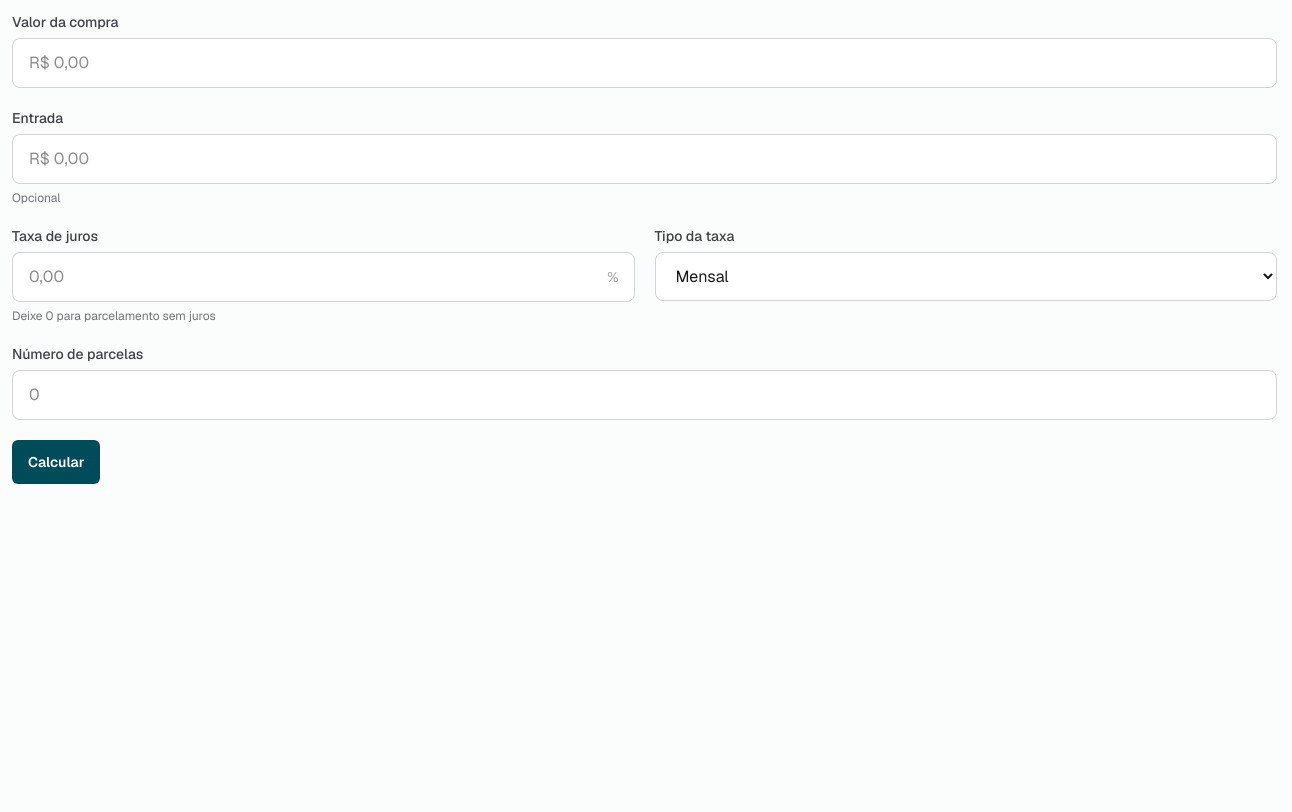
Test: ParcelamentoTool — validações › aceita taxa zero (parcelamento sem juros)
The image size is (1292, 812).
Step 1. Type "1000000" into the field labelled "Valor da compra" → (644,63), box left=12, top=38, right=1277, bottom=88
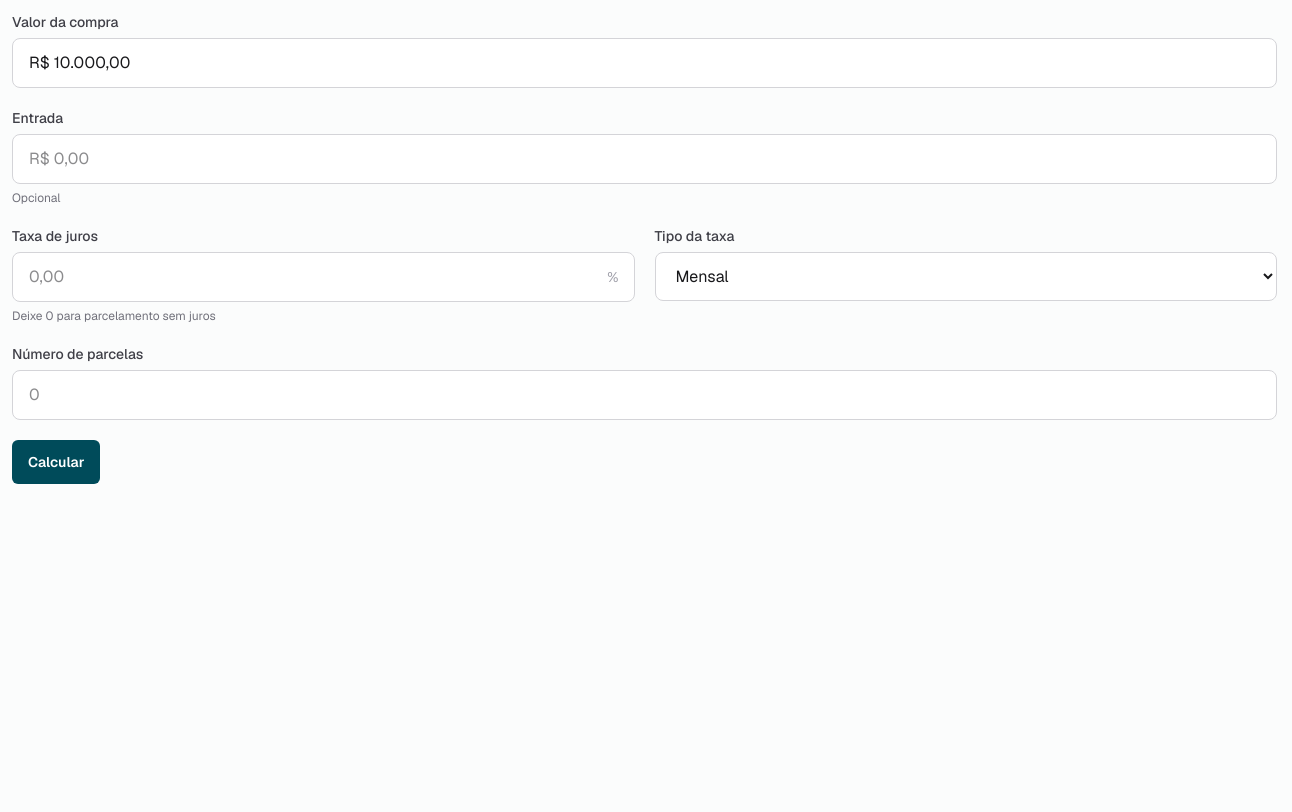
Step 2. Type "0" into the field labelled "Taxa de juros" → (323,277), box left=12, top=252, right=634, bottom=302
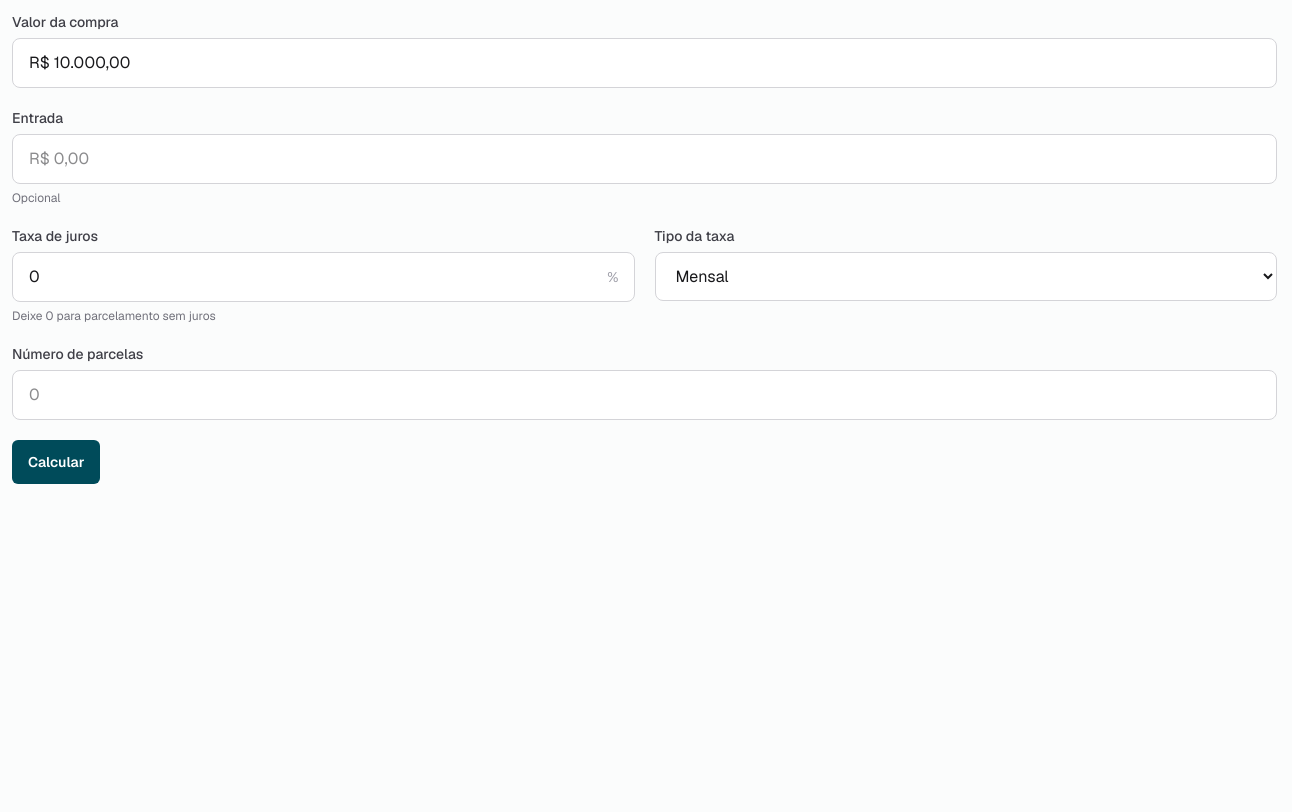
Step 3. Type "12" into the field labelled "Número de parcelas" → (644,395), box left=12, top=370, right=1277, bottom=420
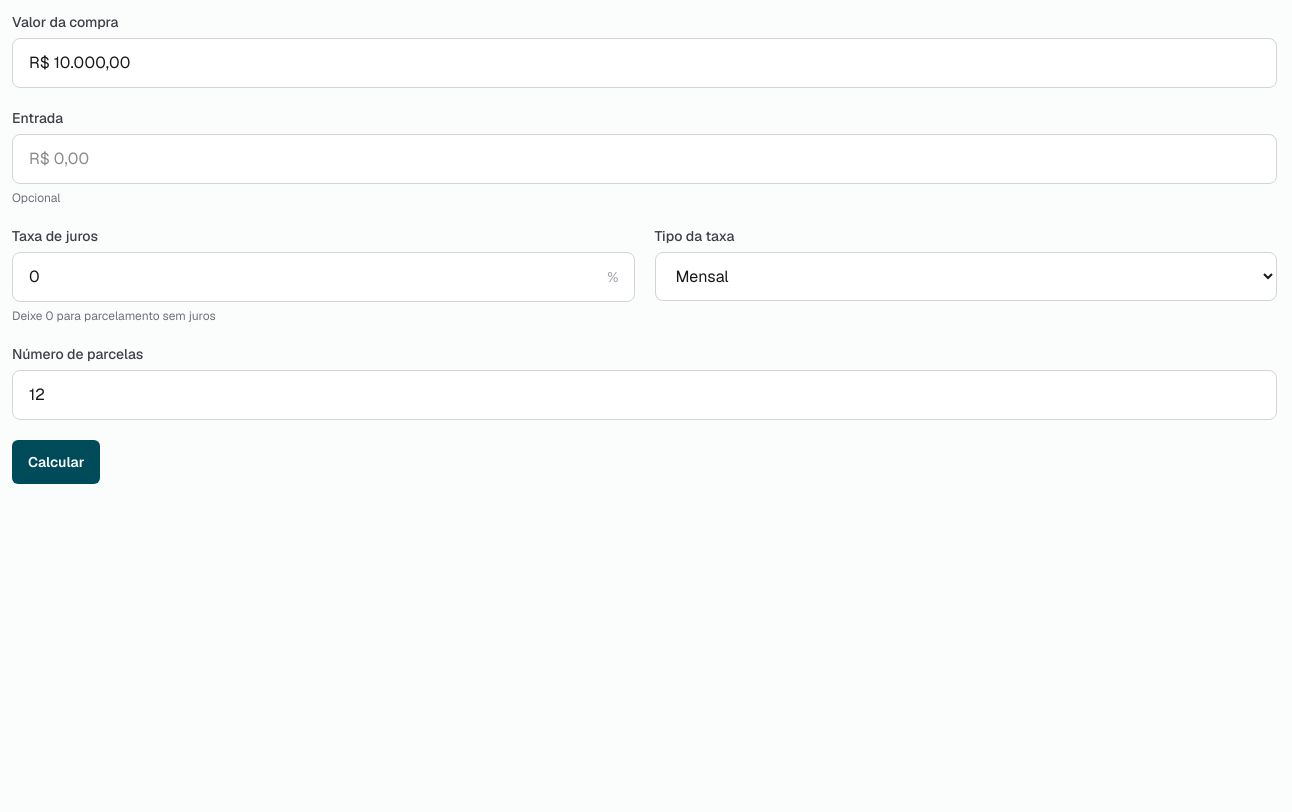
Step 4. Click the button "Calcular" → (56,462), box left=12, top=440, right=100, bottom=484
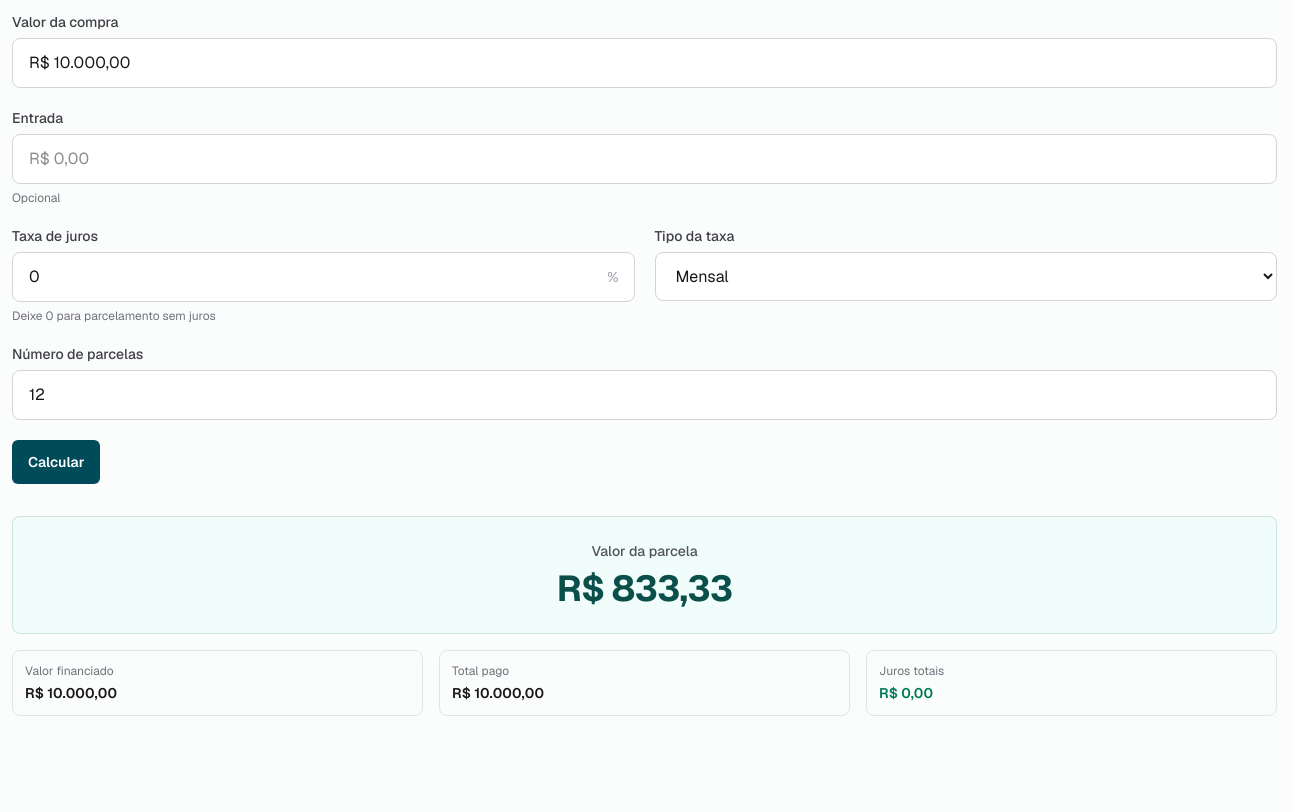
Expected: the text "Valor financiado" is shown, left=25, top=663, right=114, bottom=679
